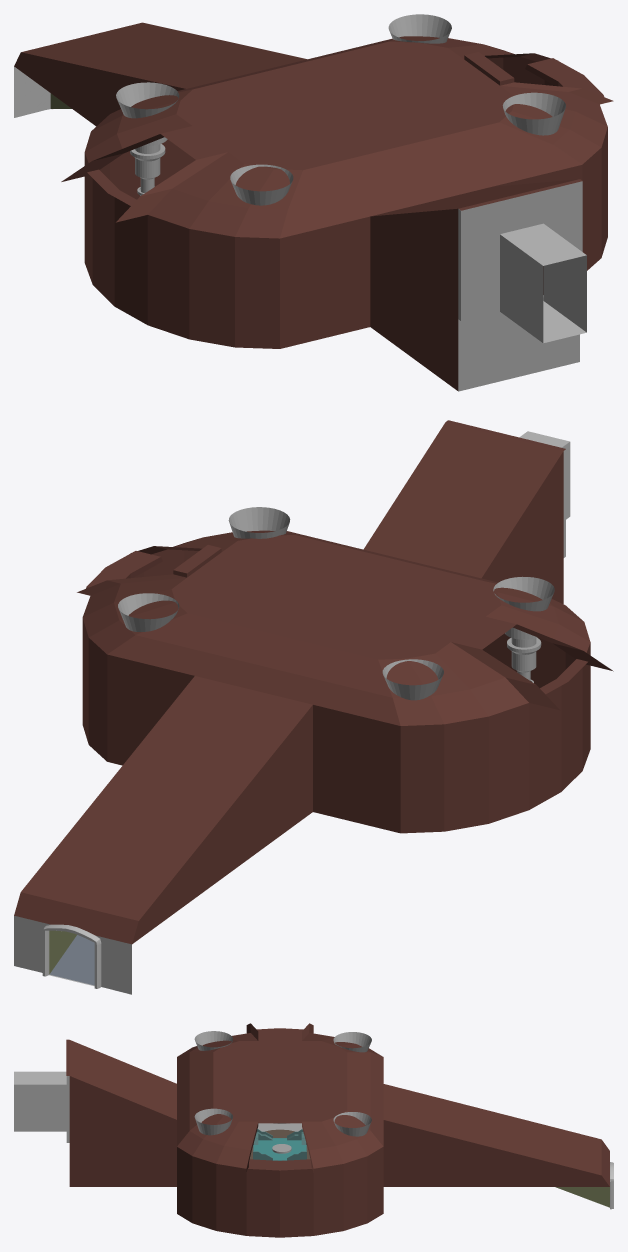
File: FirePuzzle1.fbx
The picture shows the model from 3 angles, top to bottom: view 1: azimuth 30°, elevation 25°; view 2: azimuth 150°, elevation 25°; view 3: azimuth 270°, elevation 25°; orthographic projection. The views are drawn at different scales.
Parts seen in each view (by area): view 1: RoomBase, Pillar3, Pillar1, Pillar2, Pillar4; view 2: RoomBase, Pillar4, Pillar1, Pillar2, Pillar3; view 3: RoomBase, Pillar1, Pillar3, Pillar4, Pillar2.
Boxes of the visible parts, box(x1,y1,x2,y2) form: RoomBase: box(14, 22, 613, 391); Pillar3: box(116, 82, 179, 195); Pillar1: box(502, 92, 565, 135); Pillar2: box(388, 14, 451, 43); Pillar4: box(230, 164, 293, 205); RoomBase: box(14, 420, 613, 994); Pillar4: box(493, 576, 554, 682); Pillar1: box(228, 507, 290, 538); Pillar2: box(118, 593, 179, 631); Pillar3: box(382, 659, 443, 700); RoomBase: box(14, 1023, 613, 1237); Pillar1: box(194, 1108, 232, 1135); Pillar3: box(333, 1032, 371, 1052); Pillar4: box(194, 1031, 232, 1050); Pillar2: box(333, 1112, 371, 1136).
Size of the model in its own units: 75.86 by 34.15 by 130.
